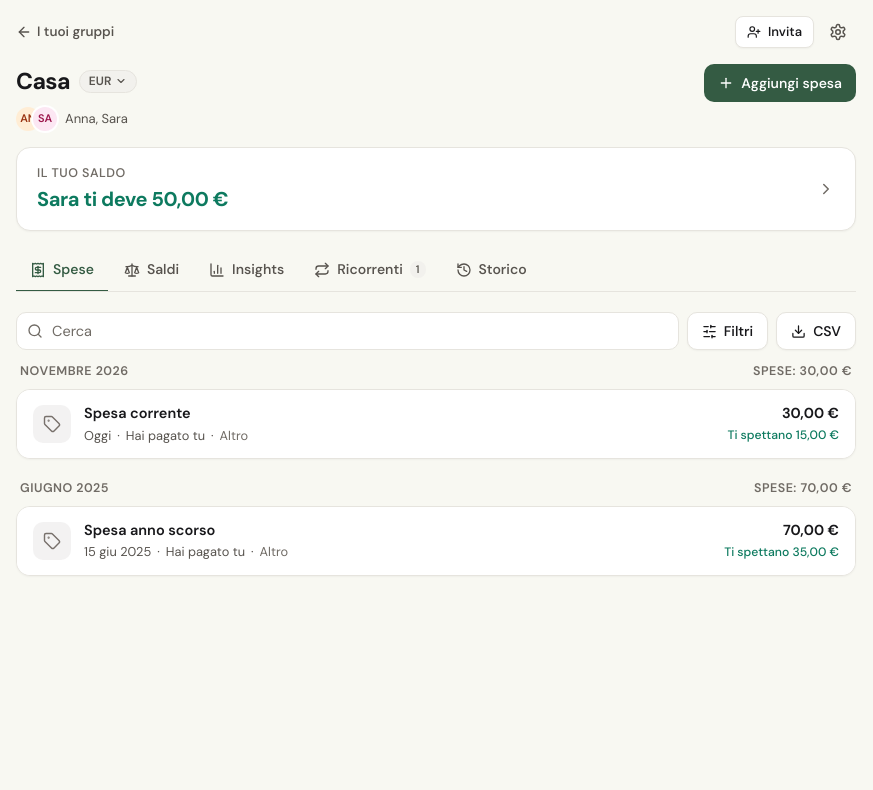
offre solo i filtri temporali richiesti in Spese e Insights e filtra Questa settimana e Anno scorso
This screenshot has width=873, height=790.
Click the button "Filtri" at (727, 331), box 687,312 -> 768,350
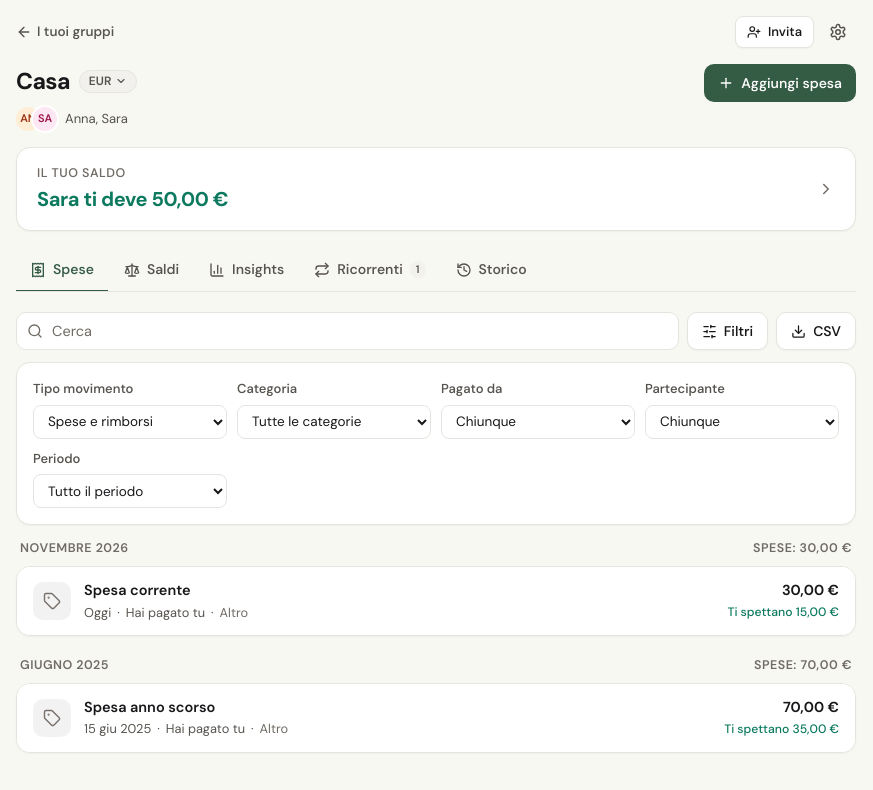
Select "Questa settimana" in the dropdown labelled "Periodo" at (130, 491), box 33,474 -> 227,508
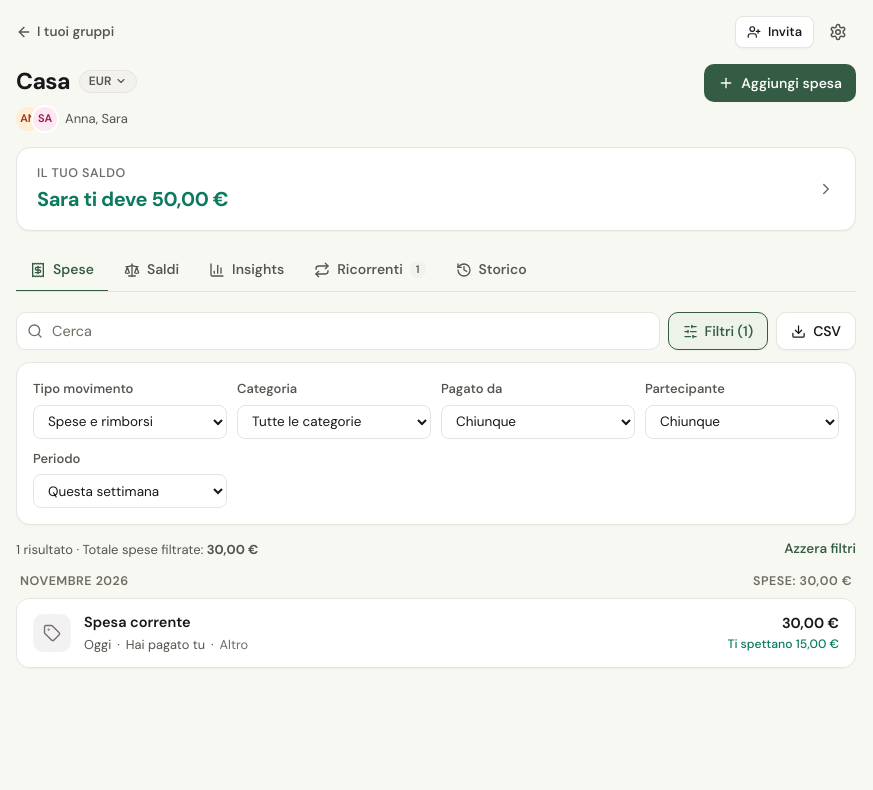
Expected: the text "Spesa corrente" is shown, 84,612 -> 191,634
Now the button "Spesa anno scorso" is gone
Select "Anno scorso" in the dropdown labelled "Periodo" at (130, 491), box 33,474 -> 227,508
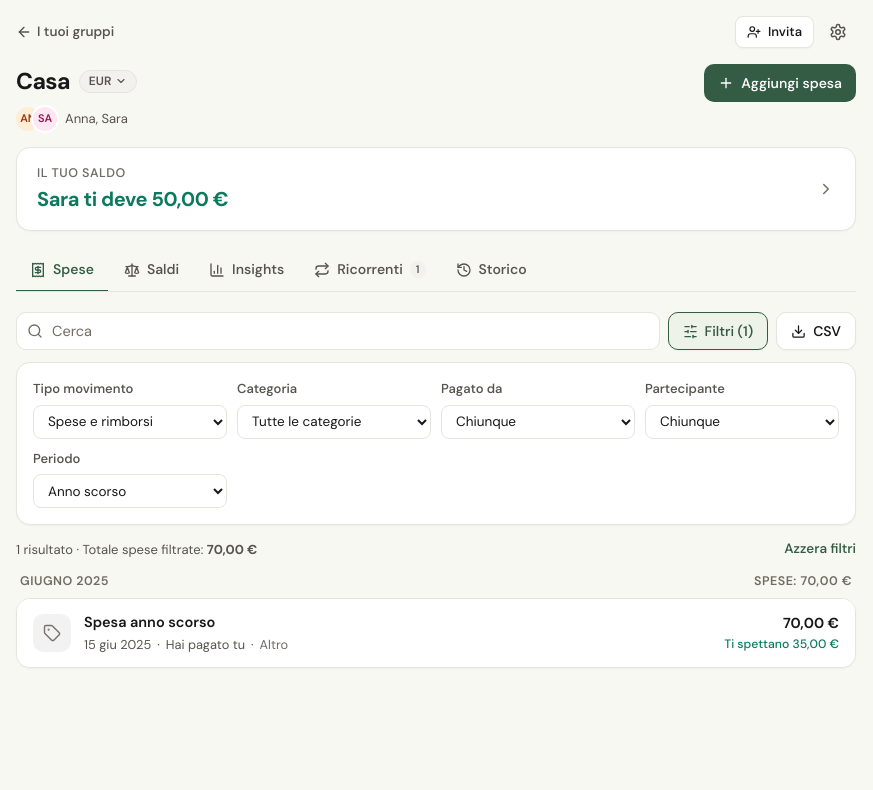
Now the button "Spesa corrente" is gone
Now the text "Spesa anno scorso" is shown, box 84,612 -> 215,634
Click the button "Insights" at (247, 271), box 195,249 -> 298,292
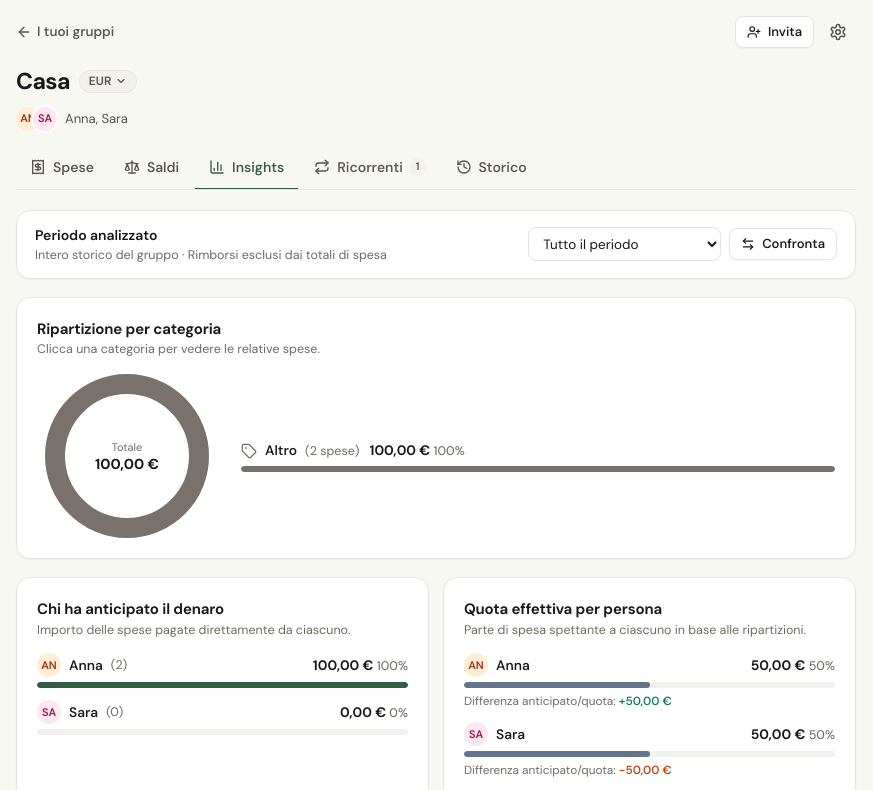
Select "Questa settimana" in the dropdown named "Seleziona periodo degli Insights" at (625, 244), box 528,227 -> 721,261
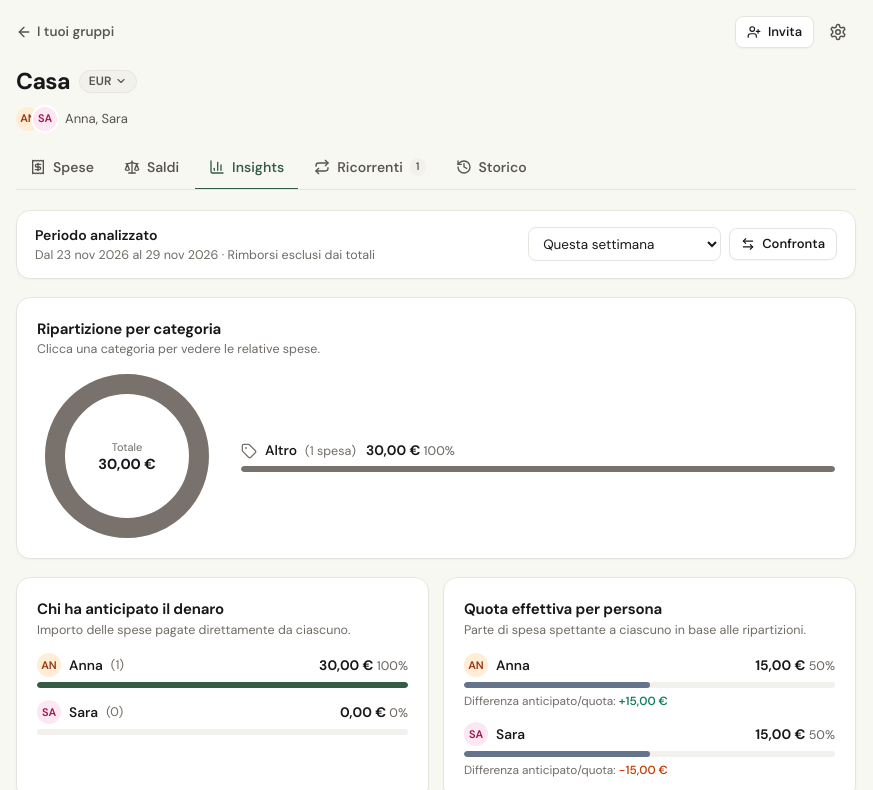
Now the text "30,00 €" is shown, box 98,456 -> 156,473
Select "Anno scorso" in the dropdown named "Seleziona periodo degli Insights" at (625, 244), box 528,227 -> 721,261
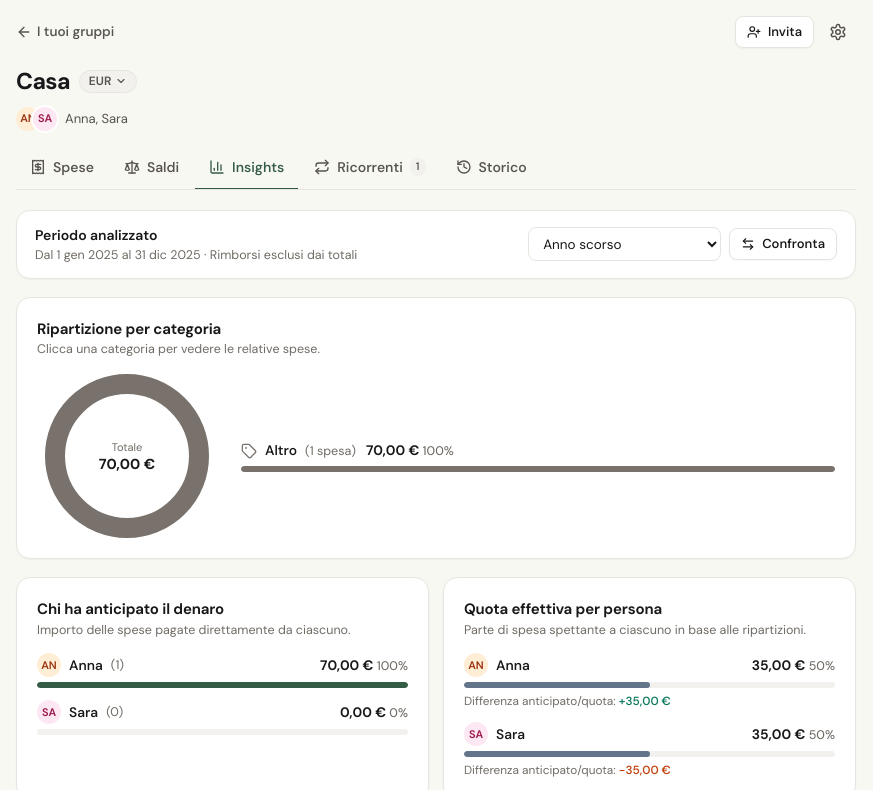
Now the text "70,00 €" is shown, box 99,456 -> 155,473
